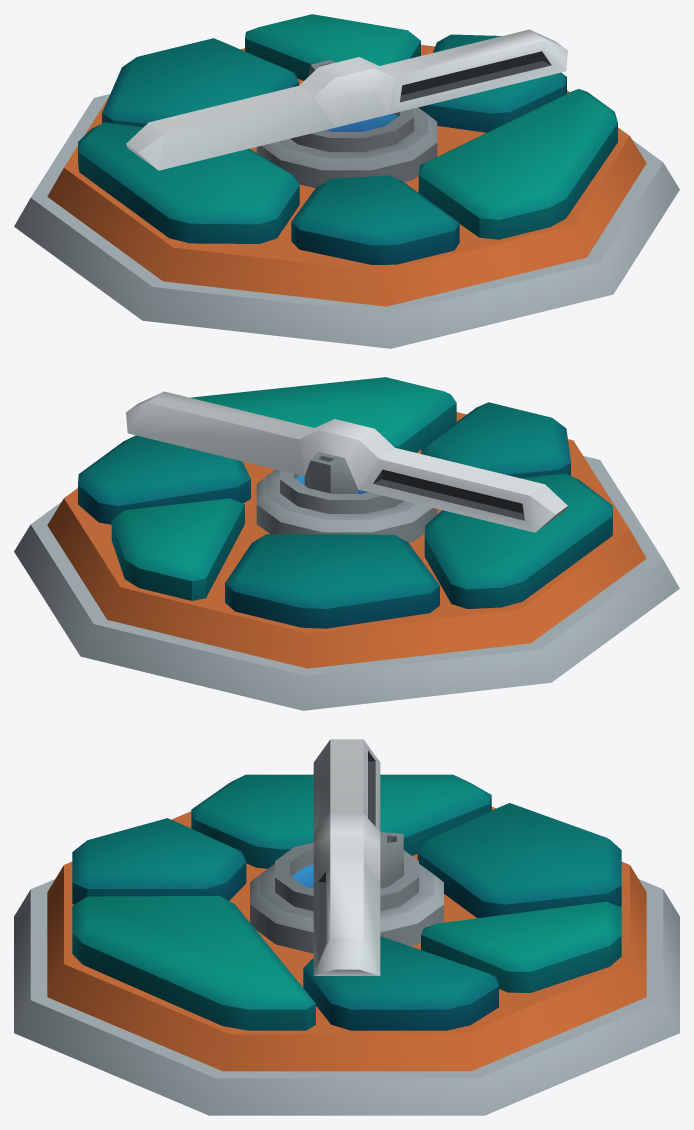
The model's file is farm.glb.
3 views of the same model, one above another, from view 1: azimuth 30°, elevation 25°; view 2: azimuth 150°, elevation 25°; view 3: azimuth 270°, elevation 25° (orthographic). The views are drawn at different scales.
Visible parts, largest first — view 1: space_farm_large_sprinkler, space_farm_large_sprinkler.001; view 2: space_farm_large_sprinkler, space_farm_large_sprinkler.001; view 3: space_farm_large_sprinkler, space_farm_large_sprinkler.001.
Part boxes in pixels (box(x1,y1,x2,y2)): space_farm_large_sprinkler: box(14, 14, 679, 348); space_farm_large_sprinkler.001: box(126, 29, 567, 170); space_farm_large_sprinkler: box(14, 377, 679, 710); space_farm_large_sprinkler.001: box(126, 391, 567, 532); space_farm_large_sprinkler: box(14, 774, 679, 1115); space_farm_large_sprinkler.001: box(275, 739, 418, 975).
Bounding box in the file's own units: 2 × 0.5 × 2.
Materials: 1 (1 with a texture image).
